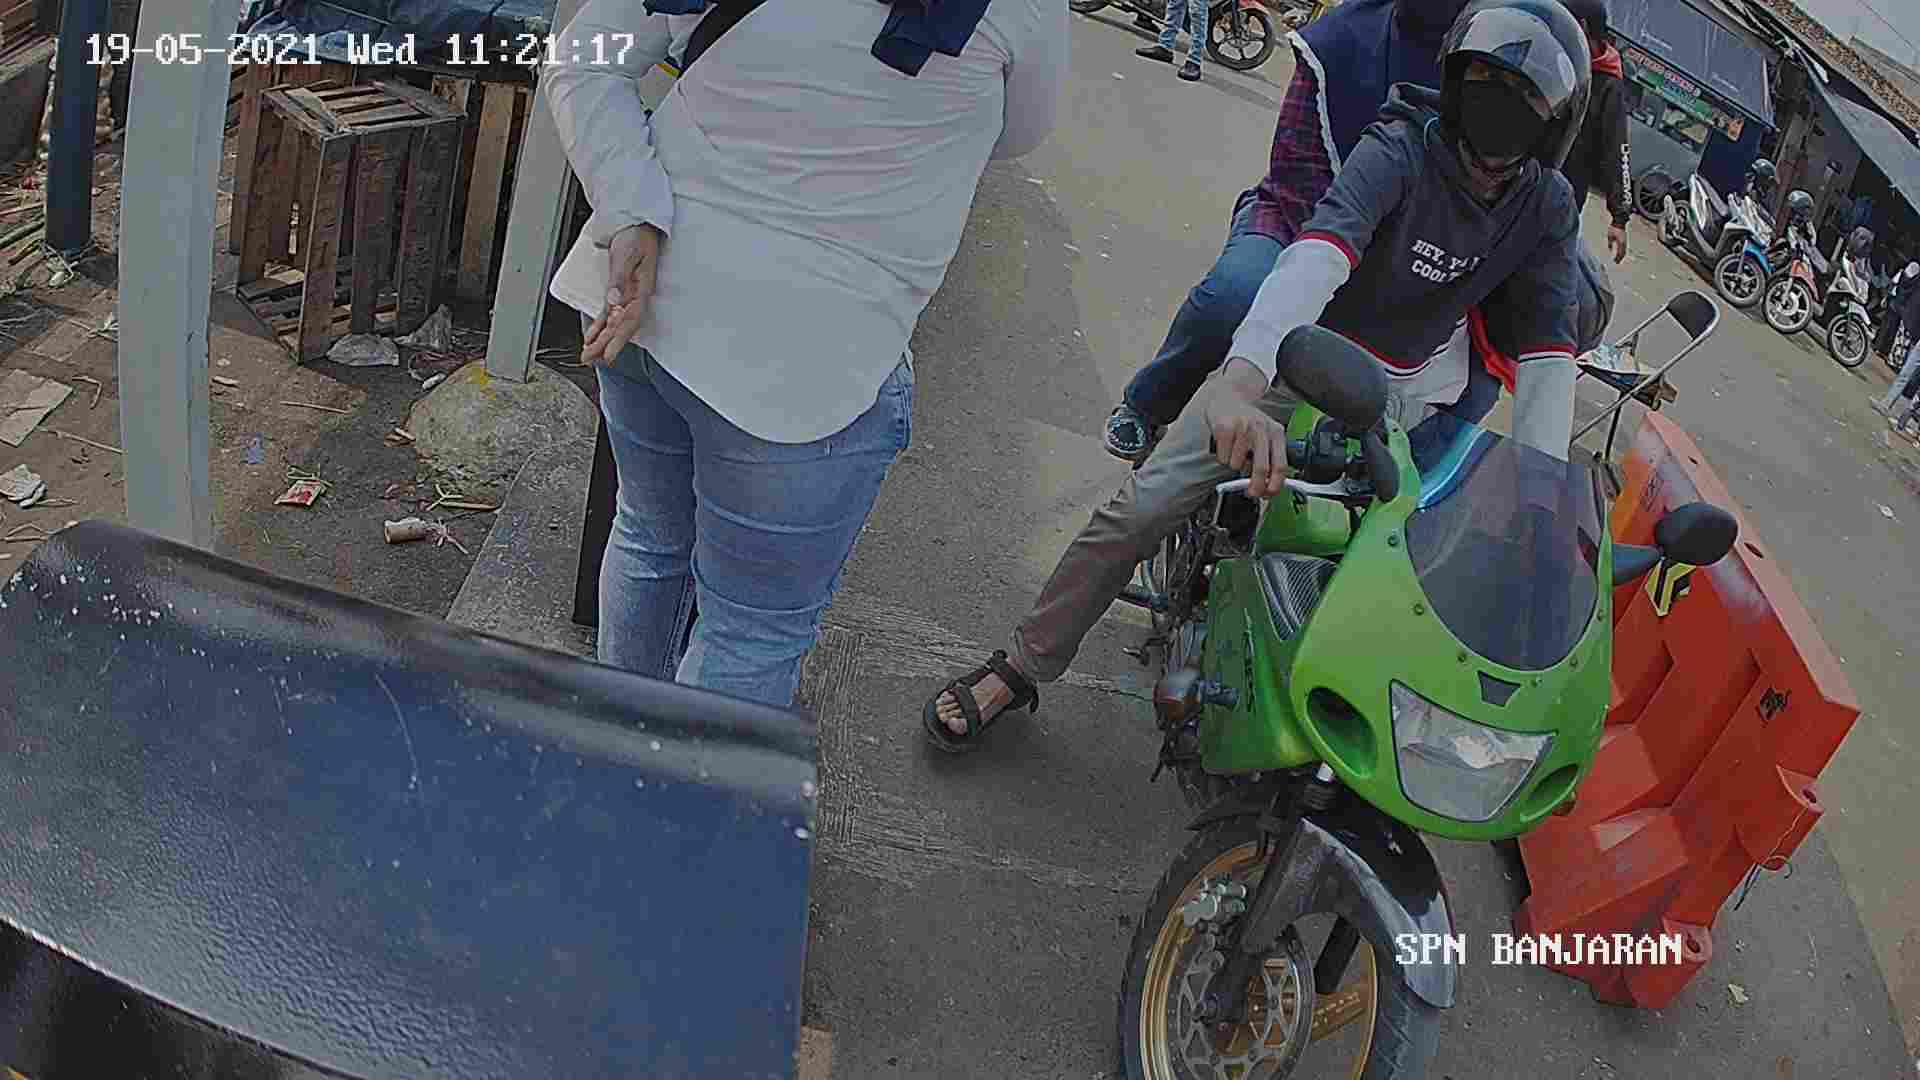motor: (1126, 303, 1635, 1080)
